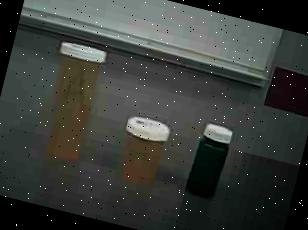Bottle A: (30, 36, 114, 168)
Bottle B: (111, 114, 179, 192)
Bottle C: (180, 117, 242, 212)
